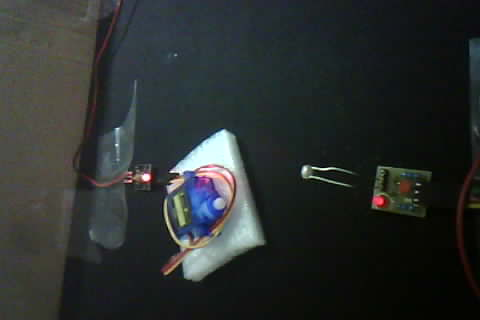motor: (153, 131, 263, 278)
